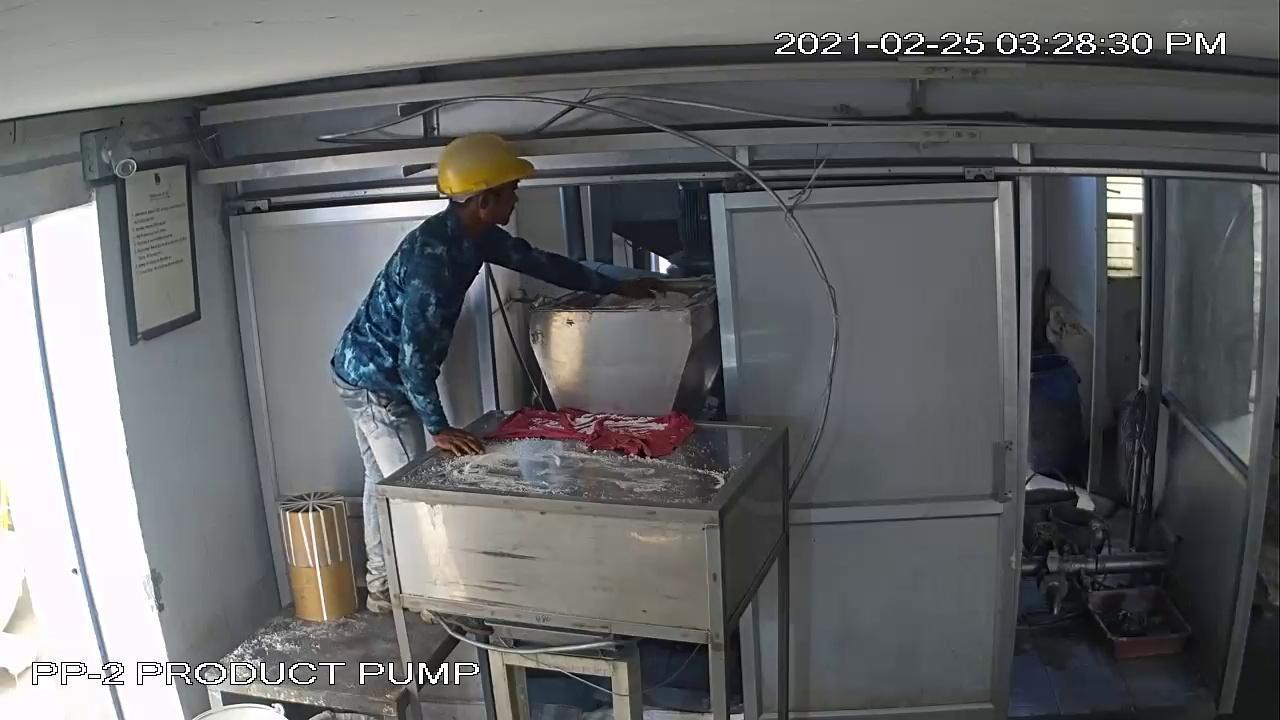helmet: (428, 120, 539, 215)
